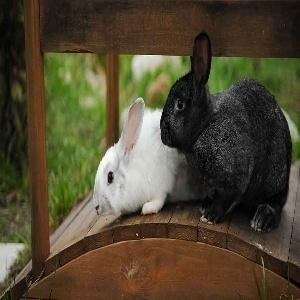rabbit: (92, 32, 288, 233)
